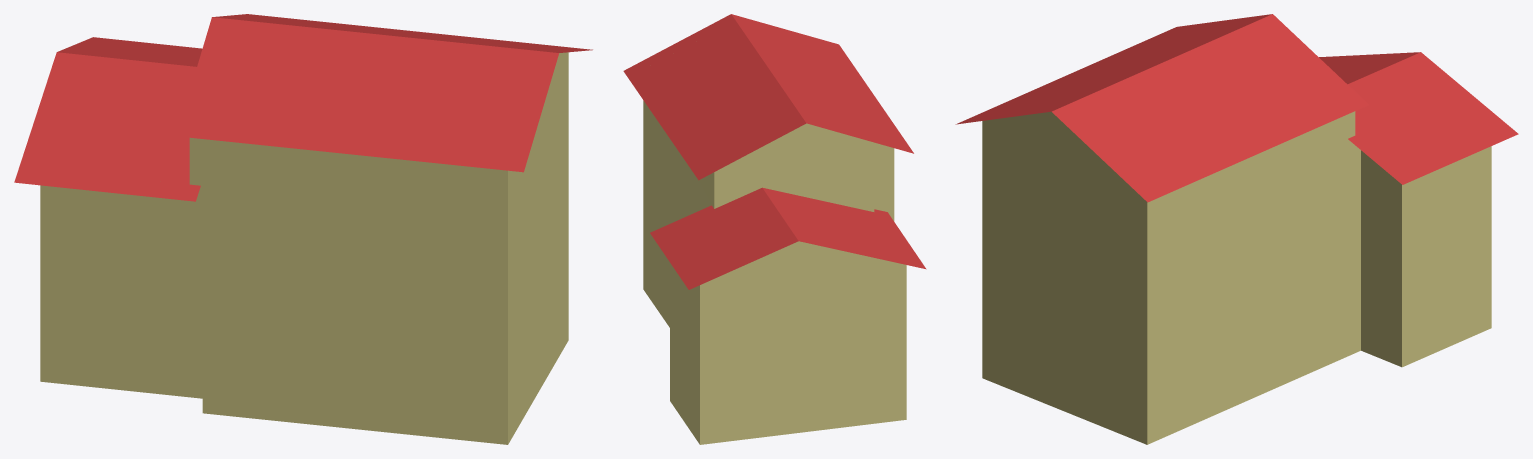
3 views of the same model, side by side, from view 1: azimuth 30°, elevation 25°; view 2: azimuth 150°, elevation 25°; view 3: azimuth 270°, elevation 25° (orthographic). The views are drawn at different scales.
Visible parts, largest first — view 1: group_9, group_7, group_5, group_3, group_8, group_4; view 2: group_5, group_7, group_9, group_3, group_8, group_4; view 3: group_9, group_7, group_5, group_3, group_8, group_4.
Boxes of the visible parts, box(x1,y1,x2,y2) form: group_9: box(189, 52, 568, 444); group_7: box(176, 14, 567, 172); group_5: box(40, 185, 200, 398); group_3: box(14, 37, 202, 201); group_8: box(177, 14, 592, 171); group_4: box(15, 38, 201, 201); group_5: box(670, 241, 906, 444); group_7: box(643, 14, 913, 171); group_9: box(643, 100, 894, 327); group_3: box(650, 187, 926, 289); group_8: box(623, 14, 913, 180); group_4: box(650, 205, 925, 288); group_9: box(982, 111, 1355, 444); group_7: box(955, 14, 1364, 188); group_5: box(1347, 139, 1491, 367); group_3: box(1319, 52, 1518, 184); group_8: box(964, 27, 1368, 202); group_4: box(1320, 53, 1513, 184).
Bounding box in the file's own units: 19.7 × 21.87 × 13.09.
